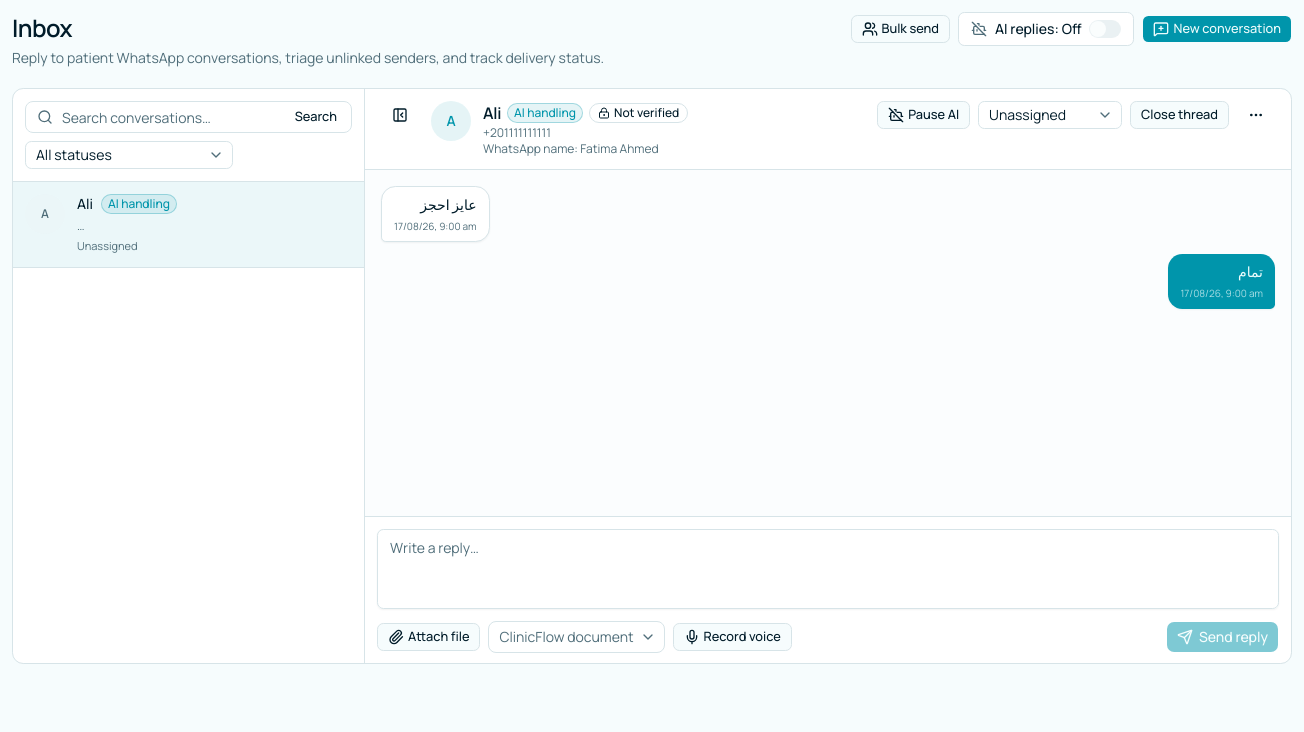
Test: P10 §13 · the ClinicFlow document control says why it is unavailable › is enabled, and offers only the documents it was given, once there are some
Click the dropdown with test id "composer-document-select" at {"x": 577, "y": 637}, box top-left (488, 621), bottom-right (665, 653)
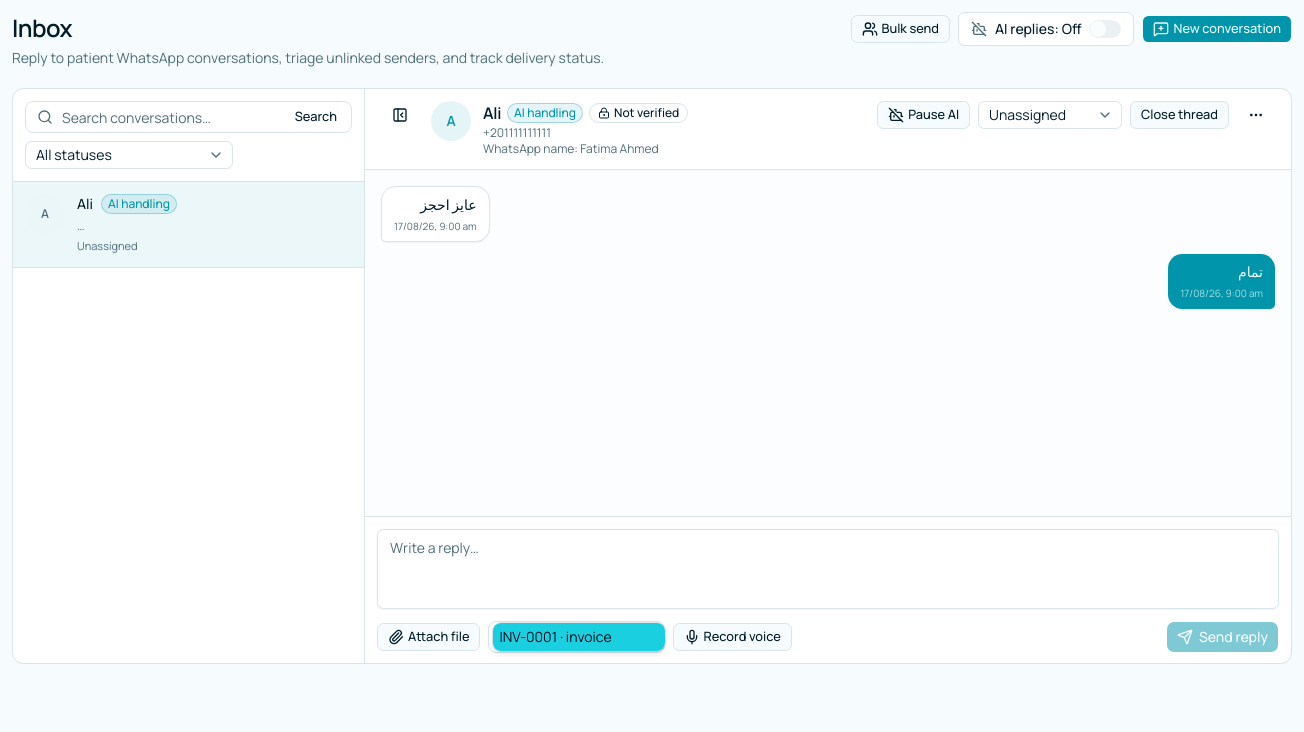
Check: the text "INV-0001 · invoice" is shown, box top-left (500, 627), bottom-right (612, 647)
